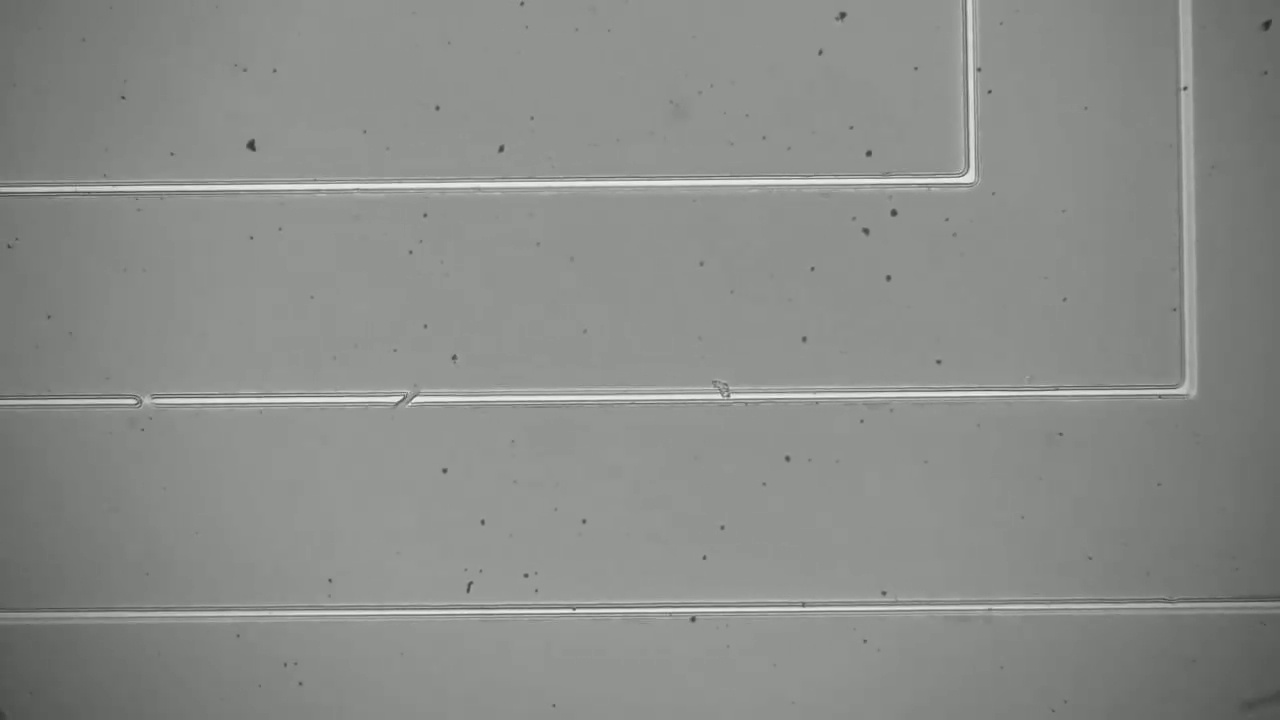open: (383, 376, 429, 421), (123, 388, 162, 413)
stains_enbedded: (699, 370, 745, 413)
